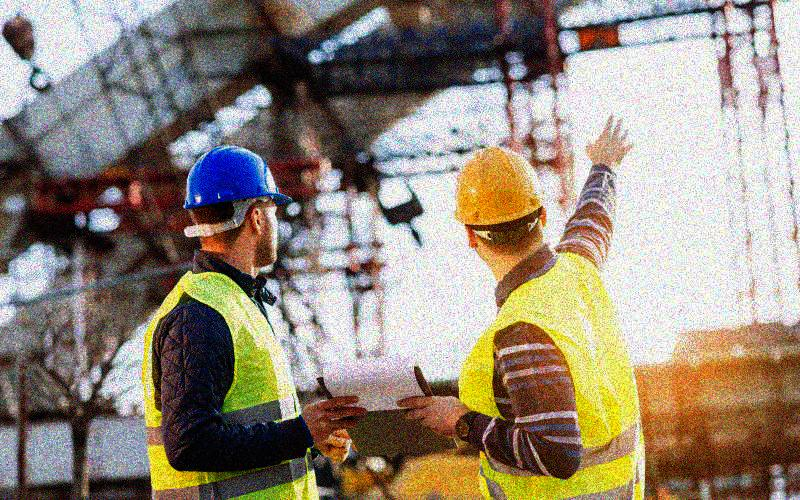helmet: (181, 141, 293, 267), (453, 143, 553, 266)
